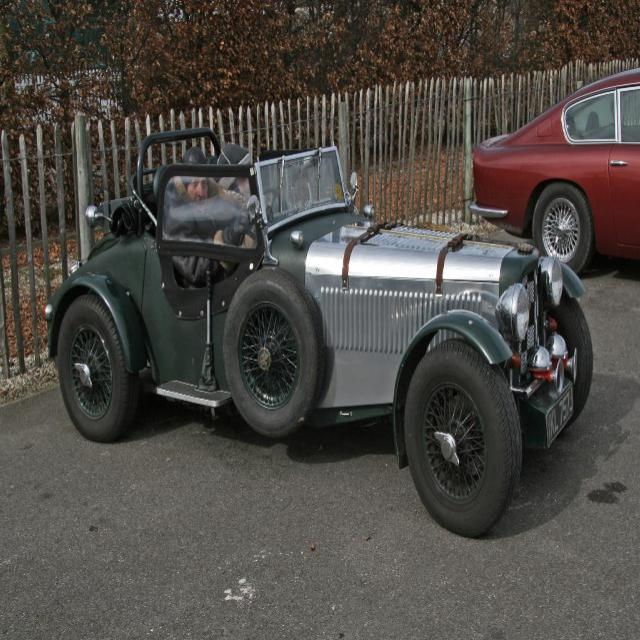car: (40, 143, 593, 541)
